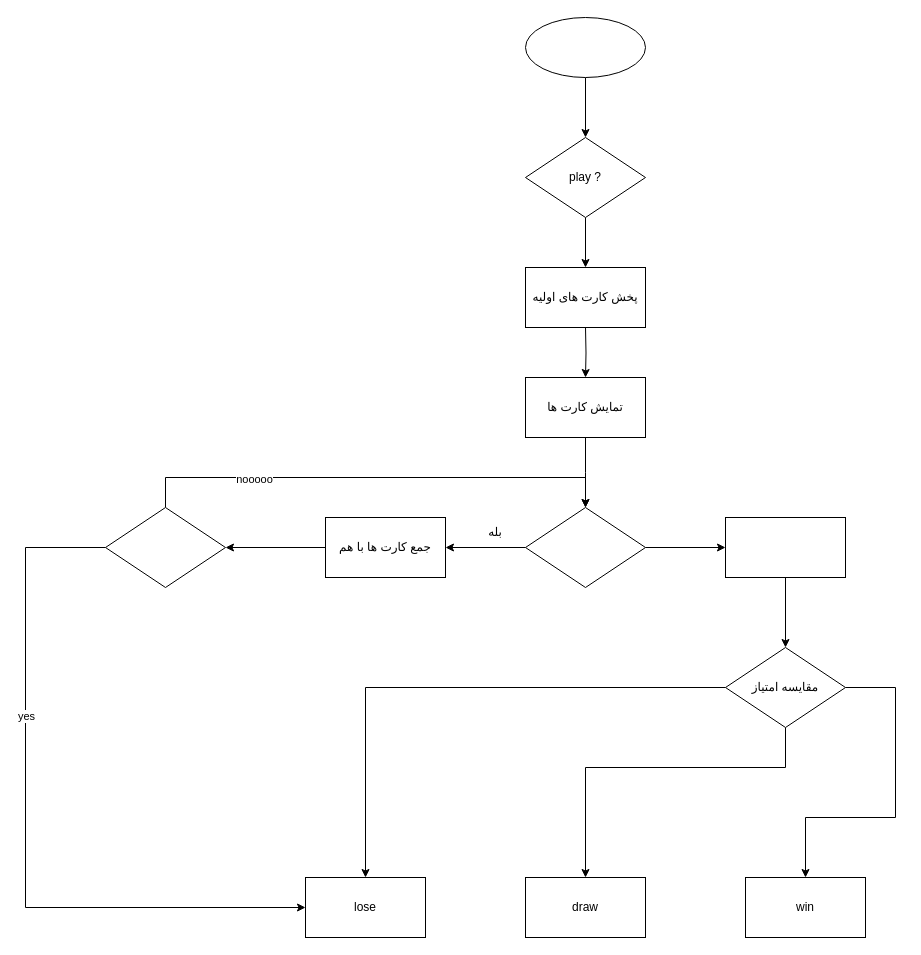
This 921x955 diagram has some shape labels left out. Each missing label, with the box of its shape:
all>21 ?: (104, 506, 226, 588)
start: (524, 16, 646, 78)
دیلر کارت میگیره: (724, 516, 846, 578)
کارت جدید ؟: (524, 506, 646, 588)
